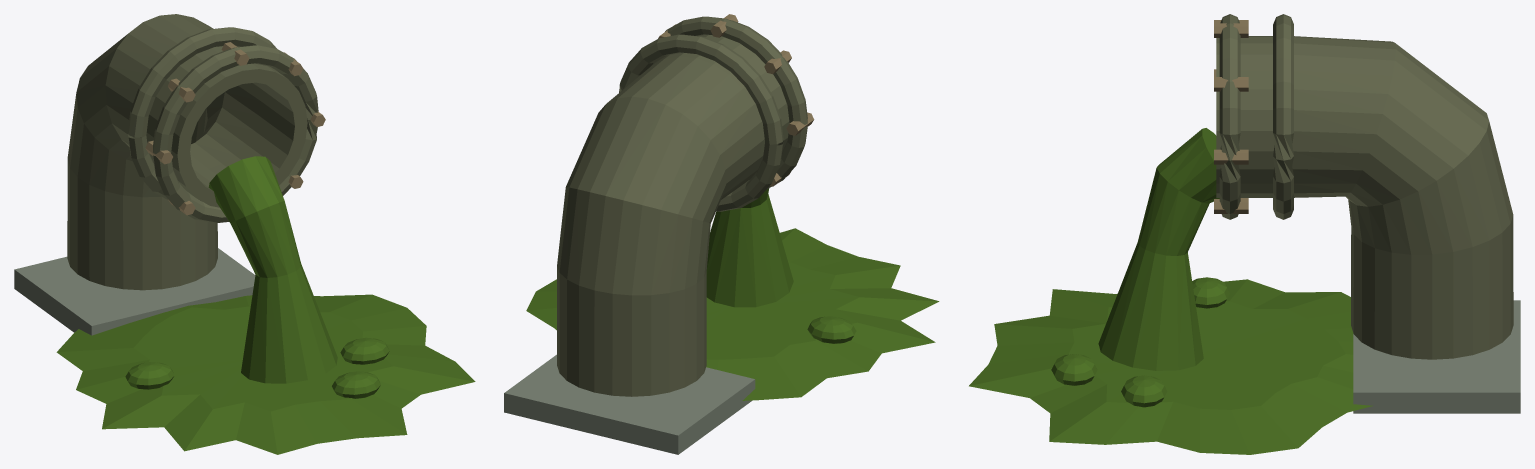
Rendered from SM_RD_sewer_ooze_pipe.fbx.
The picture shows the model from 3 angles, left to right: view 1: azimuth 30°, elevation 25°; view 2: azimuth 150°, elevation 25°; view 3: azimuth 270°, elevation 25°; orthographic projection. The views are drawn at different scales.
Visible parts, largest first — view 1: SM_RD_sewer_ooze_pipe; view 2: SM_RD_sewer_ooze_pipe; view 3: SM_RD_sewer_ooze_pipe.
Boxes of the visible parts, left/top/right/bottom form: SM_RD_sewer_ooze_pipe: left=14, top=14, right=475, bottom=454; SM_RD_sewer_ooze_pipe: left=504, top=14, right=939, bottom=454; SM_RD_sewer_ooze_pipe: left=969, top=14, right=1520, bottom=454.
Size of the model in its own units: 190 by 238 by 163.
